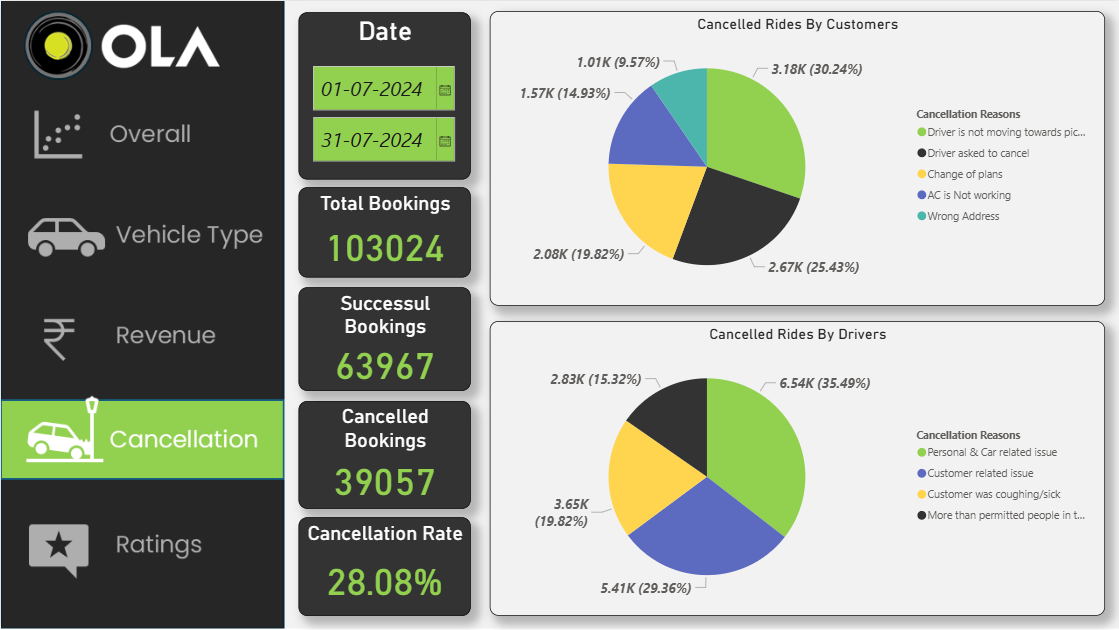

Layout of this report page (visuals, bound fields, positions):
{"tool":"powerbi","page":{"name":"Cancellation","canvas":[1280,720],"ordinal":3},"visuals":[{"type":"actionButton","box":[0,457.5,322.5,88.8],"z":0},{"type":"actionButton","box":[0,112.5,322.5,90],"z":1000},{"type":"actionButton","box":[0,222.5,322.5,88.8],"z":2000},{"type":"actionButton","box":[0,345,322.5,88.8],"z":3000},{"type":"actionButton","box":[0,580,322.5,88.8],"z":4000},{"type":"pieChart","title":"Cancelled Rides By Customers","fields":{"Category":["Ola July Data.Canceled_Rides_by_Customer"],"Y":["CountNonNull(Ola July Data.Canceled_Rides_by_Customer)"]},"box":[558.6,11.4,702.9,337.1],"z":5000},{"type":"pieChart","title":"Cancelled Rides By Drivers","fields":{"Category":["Ola July Data.Canceled_Rides_by_Driver"],"Y":["CountNonNull(Ola July Data.Canceled_Rides_by_Driver)"]},"box":[558.6,365.7,702.9,337.1],"z":6000},{"type":"slicer","title":"Date","fields":{"Values":["Ola July Data.Date"]},"box":[340,12.9,197.1,191.4],"z":7000},{"type":"card","title":"Total Bookings","fields":{"Values":["CountNonNull(Ola July Data.Booking_ID)"]},"box":[340,212.9,197.1,102.9],"z":8000},{"type":"card","title":"Successul Bookings","fields":{"Values":["CountNonNull(Ola July Data.Booking_ID)"]},"box":[340,327.1,197.1,118.6],"z":9000},{"type":"card","title":"Cancelled Bookings","fields":{"Values":["CountNonNull(Ola July Data.Booking_ID)"]},"box":[340,457.1,197.1,122.9],"z":10000},{"type":"card","title":"Cancellation Rate","fields":{"Values":["Ola July Data.Cancellation Rate"]},"box":[340,590,197.1,112.9],"z":11000}]}

Visuals, with their boxes in screenshot pixels (x1, y1, x2, y2), scaled from the page's 1280x720 canvas onto the 1119x630 screenshot:
actionButton: [left=0, top=400, right=282, bottom=478]
actionButton: [left=0, top=98, right=282, bottom=177]
actionButton: [left=0, top=195, right=282, bottom=272]
actionButton: [left=0, top=302, right=282, bottom=380]
actionButton: [left=0, top=508, right=282, bottom=585]
"Cancelled Rides By Customers" pieChart: [left=488, top=10, right=1103, bottom=305]
"Cancelled Rides By Drivers" pieChart: [left=488, top=320, right=1103, bottom=615]
"Date" slicer: [left=297, top=11, right=470, bottom=179]
"Total Bookings" card: [left=297, top=186, right=470, bottom=276]
"Successul Bookings" card: [left=297, top=286, right=470, bottom=390]
"Cancelled Bookings" card: [left=297, top=400, right=470, bottom=508]
"Cancellation Rate" card: [left=297, top=516, right=470, bottom=615]
